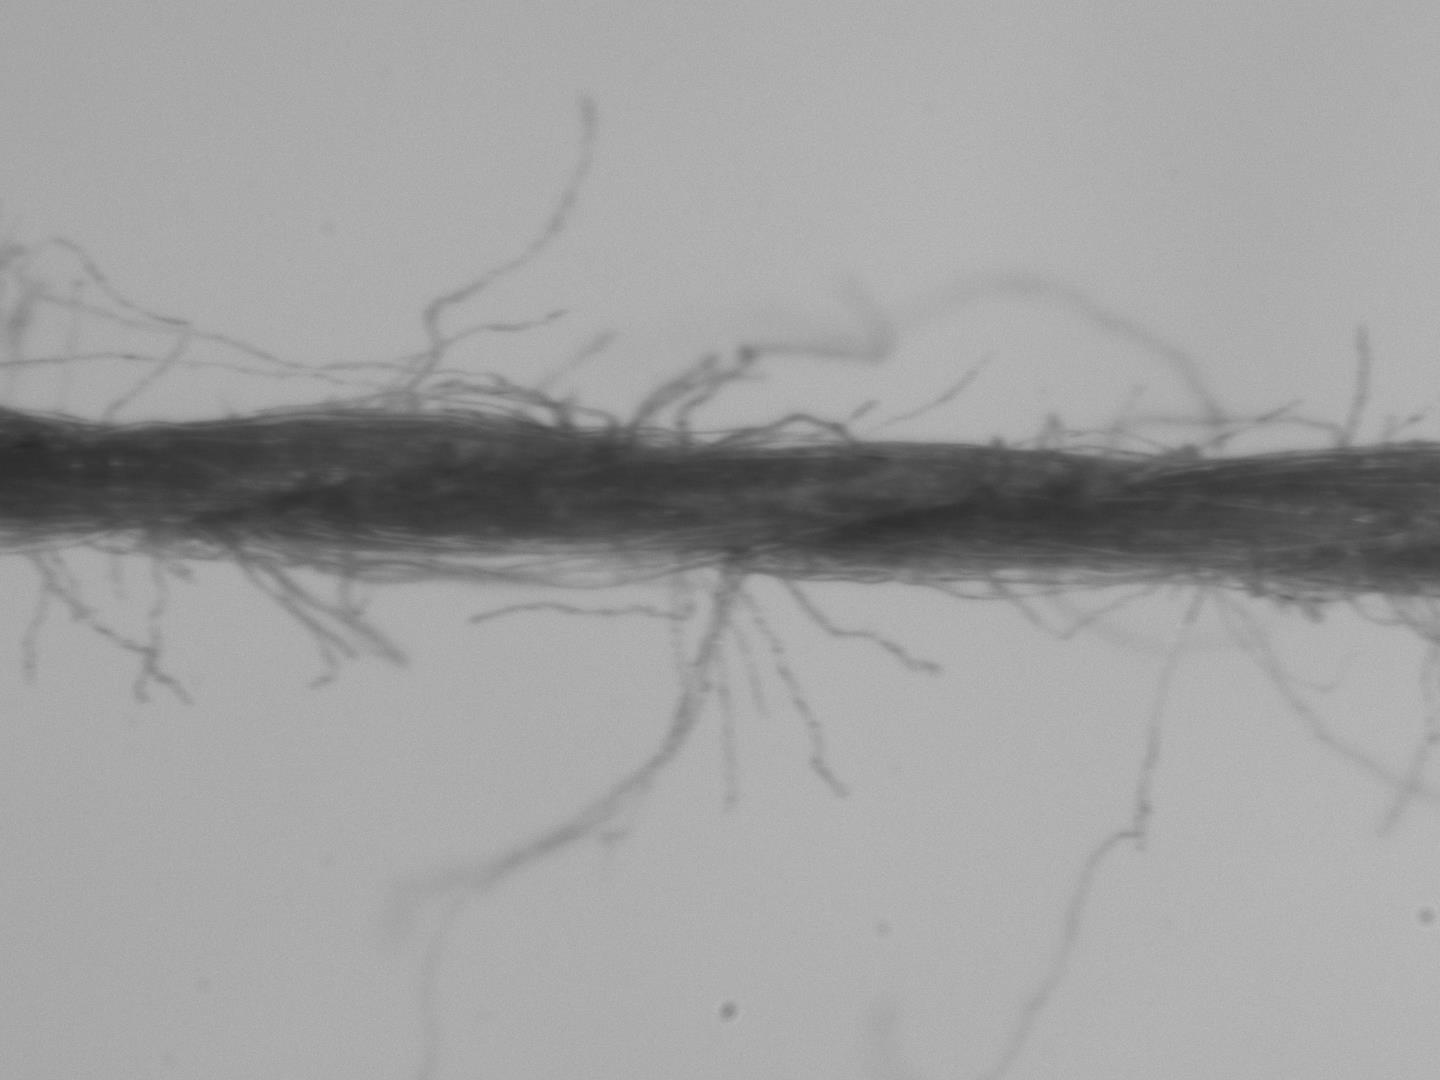loop_fiber: (966, 567, 1175, 646)
protruding_fiber: (399, 91, 598, 421), (768, 567, 955, 682)
